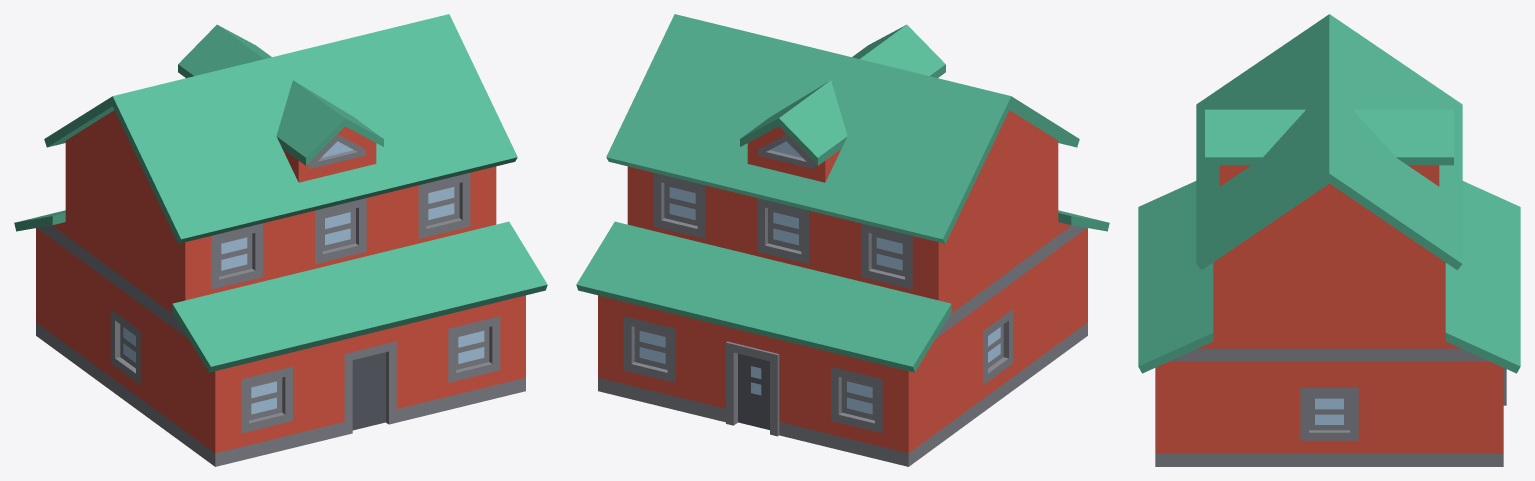
Rendered from house_type06.fbx.
3 views of the same model, side by side, from view 1: azimuth 30°, elevation 25°; view 2: azimuth 150°, elevation 25°; view 3: azimuth 270°, elevation 25° (orthographic). The views are drawn at different scales.
Parts seen in each view (by area): view 1: house_type06; view 2: house_type06; view 3: house_type06.
Boxes of the visible parts, x1=… form: house_type06: x1=14, y1=14, x2=547, y2=466; house_type06: x1=576, y1=14, x2=1109, y2=466; house_type06: x1=1138, y1=14, x2=1520, y2=466.
Size of the model in its own units: 13 by 11.38 by 13.16.
